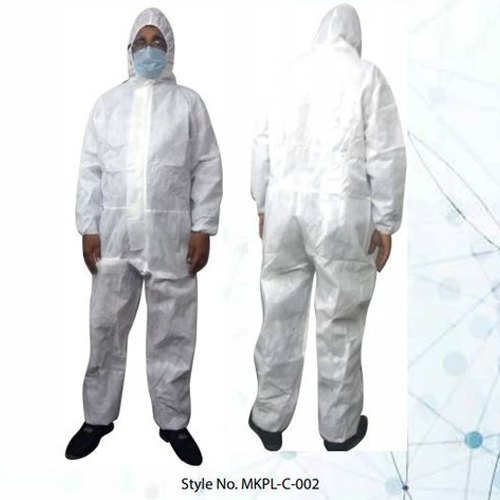Coverall: (246, 2, 406, 441), (72, 6, 224, 435)
with_mask: (131, 42, 168, 78)
